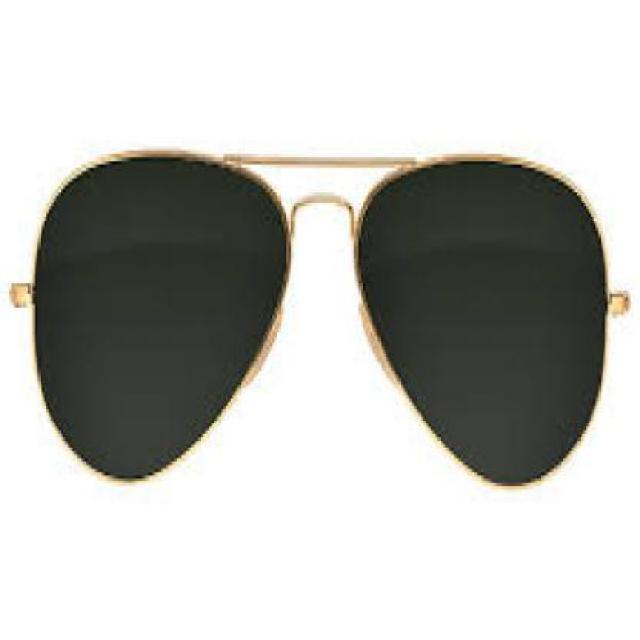gozluk: (13, 132, 624, 577)
